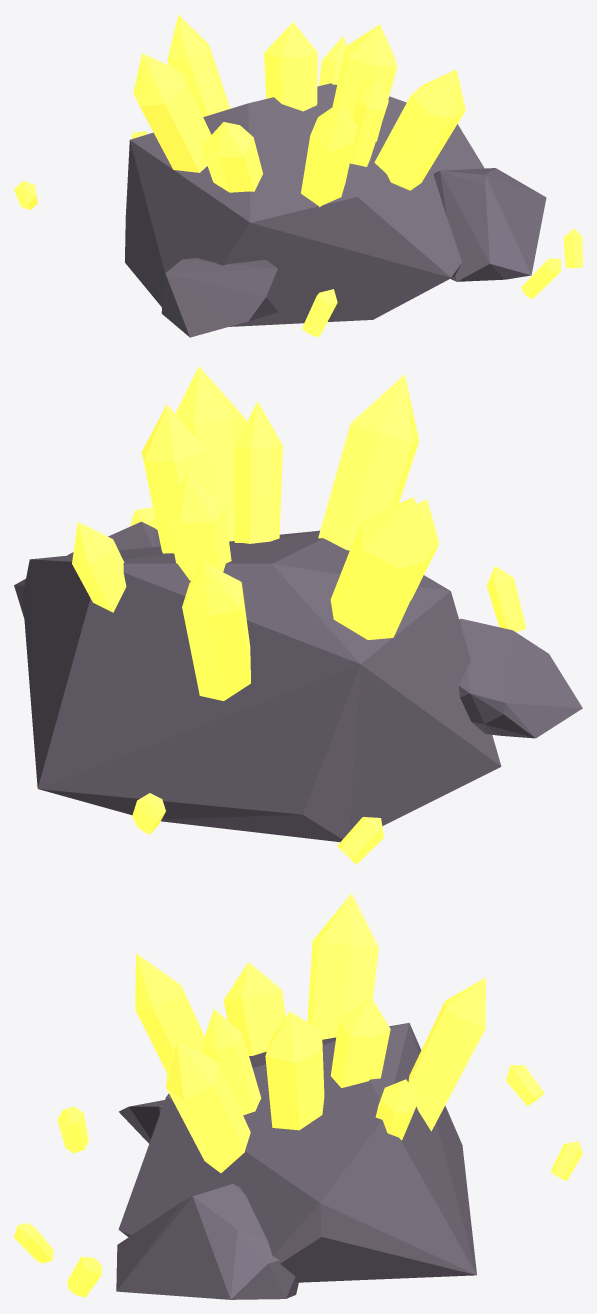
File: Crystal_OreNode_Gold.glb
The picture shows the model from 3 angles, top to bottom: view 1: azimuth 30°, elevation 25°; view 2: azimuth 150°, elevation 25°; view 3: azimuth 270°, elevation 25°; orthographic projection. The views are drawn at different scales.
Parts seen in each view (by area): view 1: Crystal_OreNode_gold; view 2: Crystal_OreNode_gold; view 3: Crystal_OreNode_gold.
Boxes of the visible parts, bbox=[...] form: Crystal_OreNode_gold: bbox=[14, 14, 582, 337]; Crystal_OreNode_gold: bbox=[14, 366, 582, 864]; Crystal_OreNode_gold: bbox=[14, 893, 582, 1299].
Bounding box in the file's own units: 1.27 × 0.715 × 1.38.
